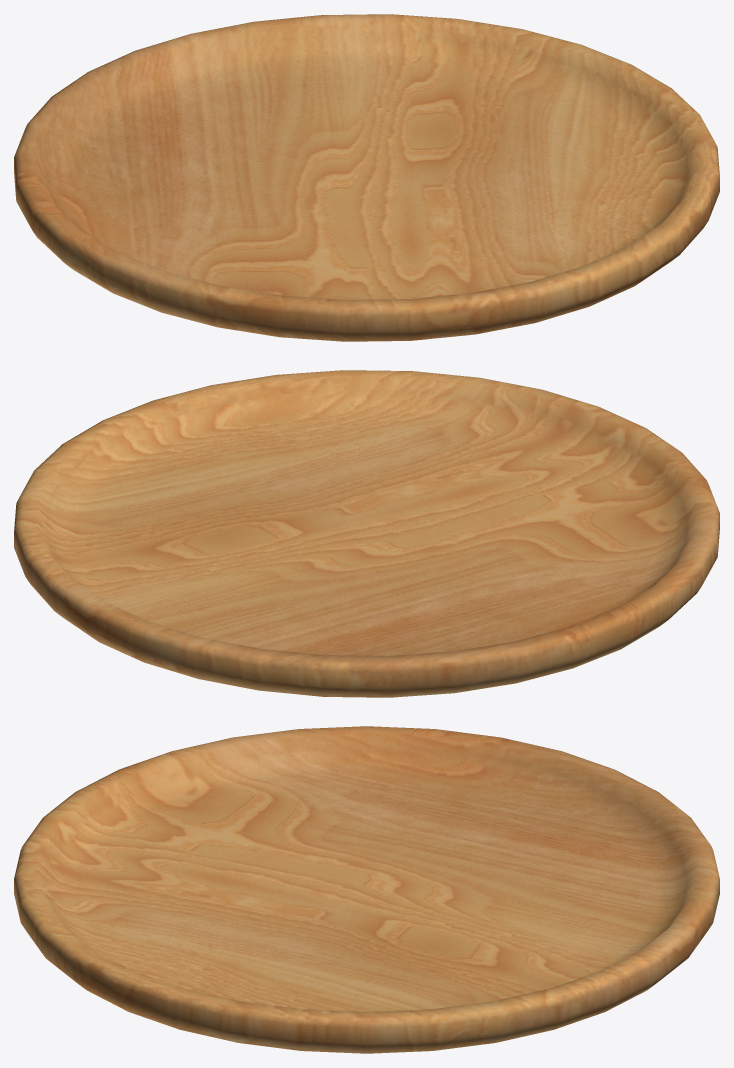
Rendered from wooden_plate.fbx.
3 views of the same model, one above another, from view 1: azimuth 30°, elevation 25°; view 2: azimuth 150°, elevation 25°; view 3: azimuth 270°, elevation 25° (orthographic).
Parts seen in each view (by area): view 1: wooden-plateobjcleanermaterialmergergles; view 2: wooden-plateobjcleanermaterialmergergles; view 3: wooden-plateobjcleanermaterialmergergles.
Boxes of the visible parts, x1,y1,x2,y2 form: wooden-plateobjcleanermaterialmergergles: (14,14,719,341); wooden-plateobjcleanermaterialmergergles: (14,370,719,697); wooden-plateobjcleanermaterialmergergles: (14,726,719,1053).
Bounding box in the file's own units: 59.93 × 4 × 59.93.
Materials: 1 (1 with a texture image).
